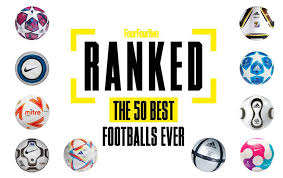football ball: (237, 136, 278, 174), (236, 3, 276, 41), (237, 49, 276, 85), (13, 5, 53, 40), (13, 93, 50, 130), (190, 136, 227, 173), (14, 137, 52, 172), (62, 137, 98, 173), (238, 95, 275, 130), (15, 51, 51, 84)
